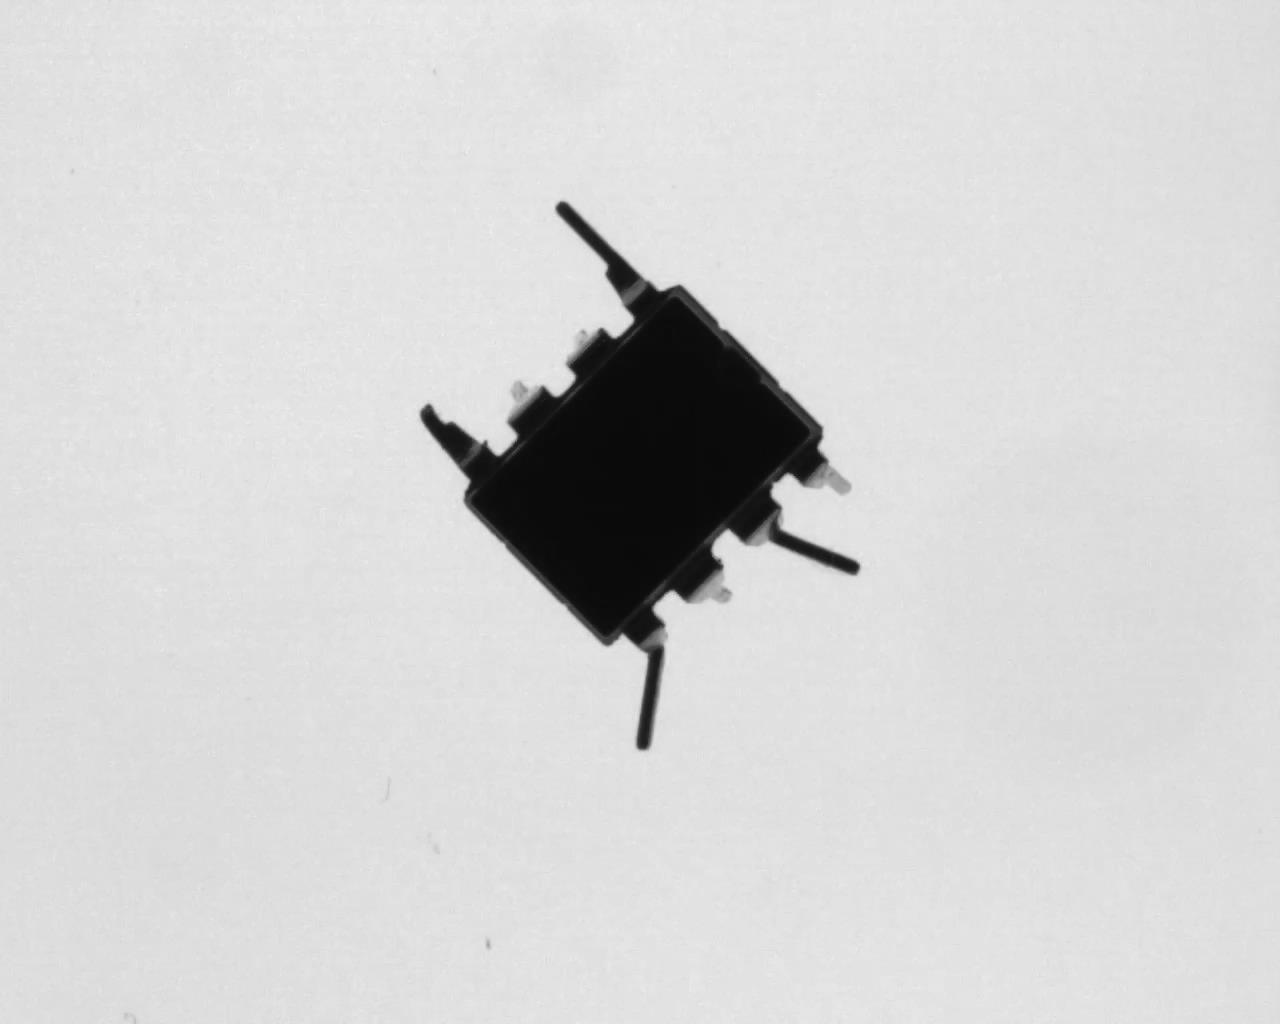Leg: (556, 201, 665, 313), (725, 490, 860, 575), (625, 605, 669, 751), (419, 403, 498, 478), (789, 447, 852, 495), (675, 555, 732, 605), (564, 325, 613, 379), (505, 378, 552, 430)
